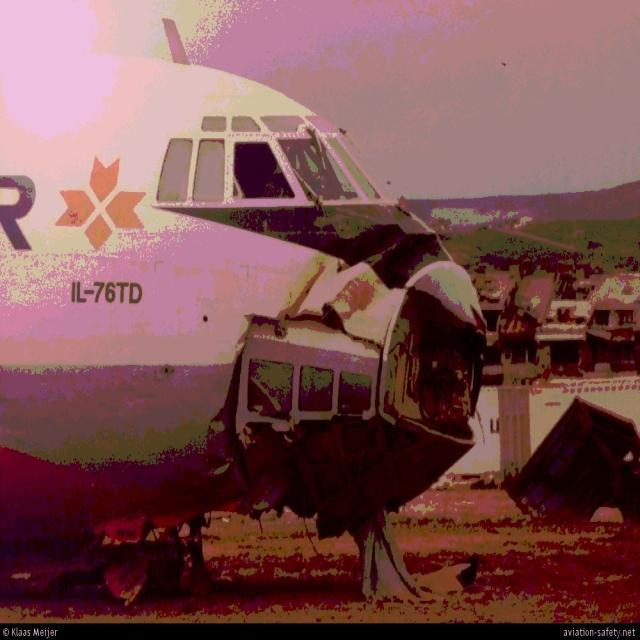dent: (203, 413, 235, 486)
